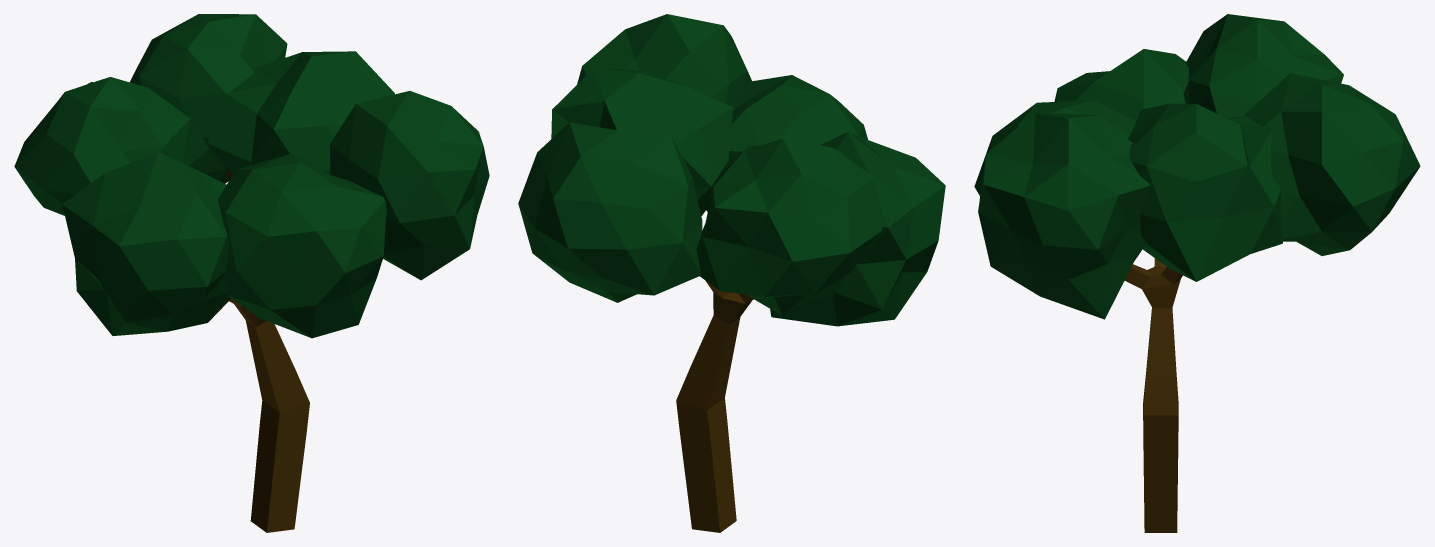
Rendered from hardwood.fbx.
3 renders of one model, left to right at view 1: azimuth 30°, elevation 25°; view 2: azimuth 150°, elevation 25°; view 3: azimuth 270°, elevation 25°, orthographic.
Parts seen in each view (by area): view 1: hardwood; view 2: hardwood; view 3: hardwood.
Part boxes in pixels (left/top/right/bottom): hardwood: left=14, top=14, right=489, bottom=532; hardwood: left=518, top=14, right=945, bottom=532; hardwood: left=974, top=14, right=1420, bottom=532.
Size of the model in its own units: 85.94 by 100 by 89.23.
